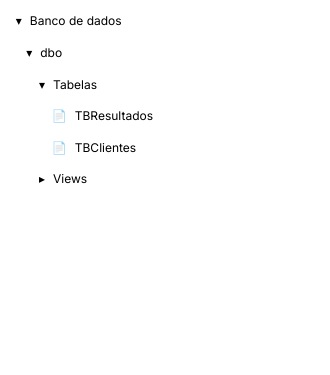
ObjectTree › abre menu de contexto com 5 itens esperados ao clicar com botão direito na tabela
Right-click the text "TBResultados" at (114, 116), box x1=75 y1=108 x2=153 y2=123
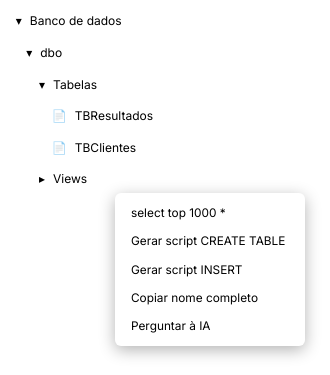
Check: the menu is shown, box x1=115 y1=193 x2=305 y2=346
Check: the number of menu items is 5, box x1=121 y1=199 x2=299 y2=227; x1=121 y1=227 x2=299 y2=255; x1=121 y1=255 x2=299 y2=284; x1=121 y1=284 x2=299 y2=312; x1=121 y1=312 x2=299 y2=340
Check: the menu item "select top 1000 *" is shown, box x1=121 y1=199 x2=299 y2=227
